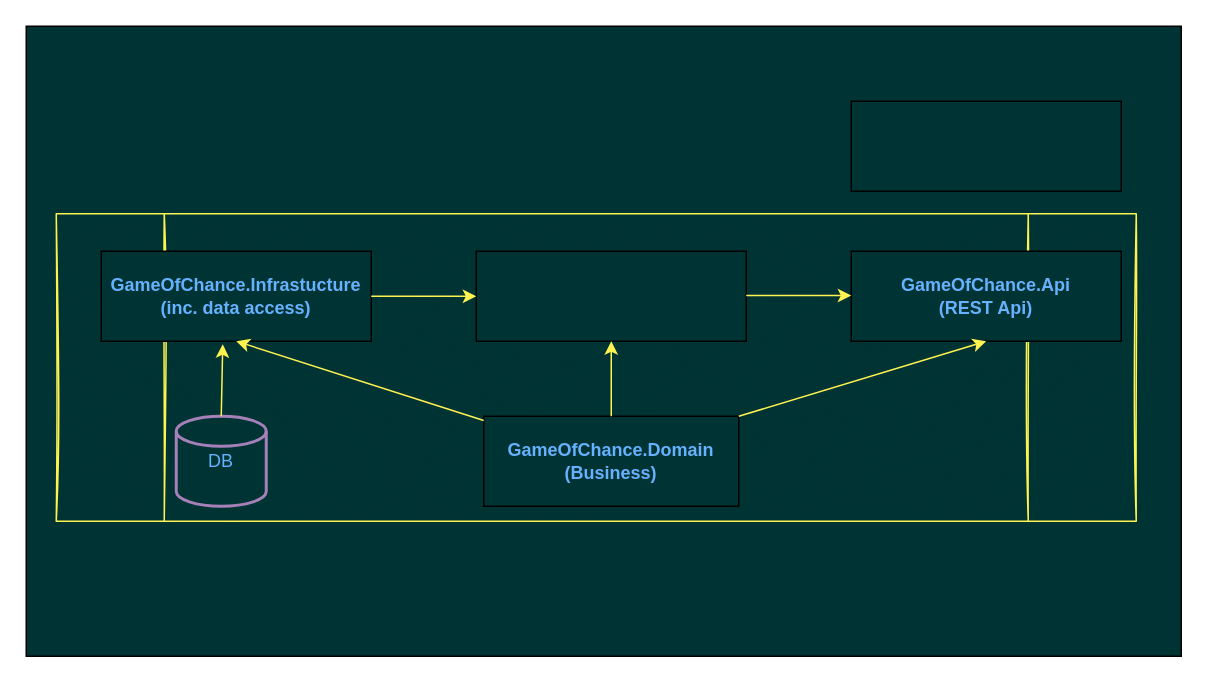
This 1208x683 diagram has some shape labels left out. The centre of each missing label's shape, as x and y in pixels:
"GameOfChance.Client (Services)" belongs at point (610, 295).
"GameOfChance.Tests" belongs at point (985, 145).
